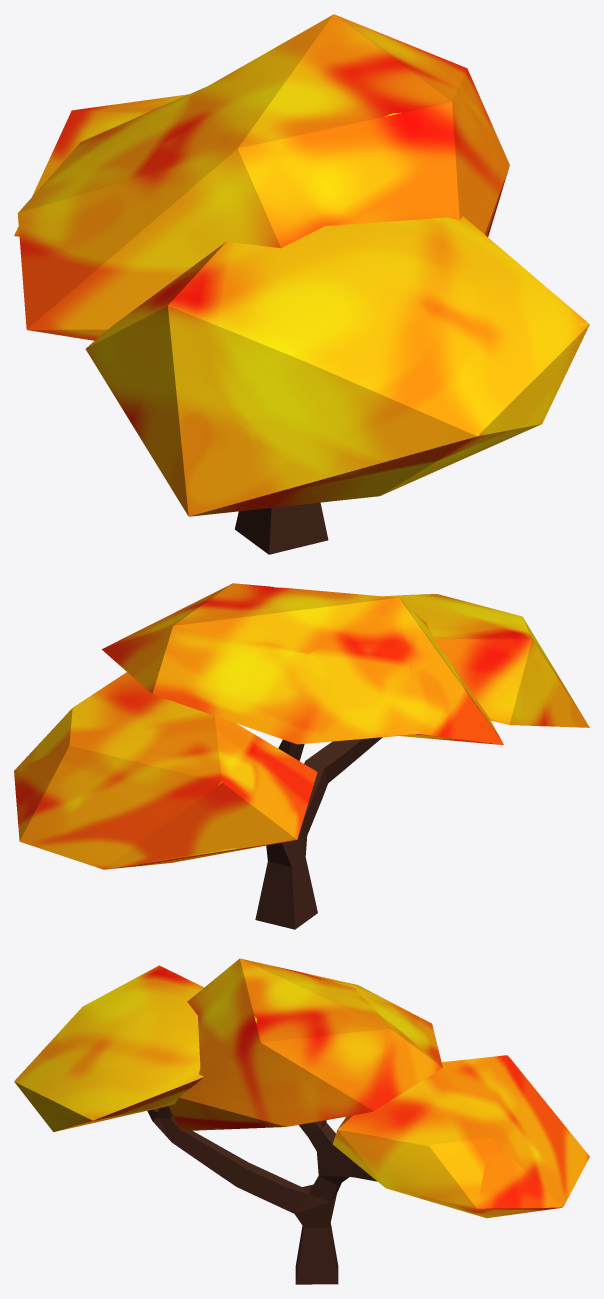
Rendered from Tree2.fbx.
The picture shows the model from 3 angles, top to bottom: view 1: azimuth 30°, elevation 25°; view 2: azimuth 150°, elevation 25°; view 3: azimuth 270°, elevation 25°; orthographic projection. The views are drawn at different scales.
Parts seen in each view (by area): view 1: Icosphere, Cube; view 2: Icosphere, Cube; view 3: Icosphere, Cube.
Part boxes in pixels (x1,y1,x2,y2): Icosphere: (14, 14, 589, 516); Cube: (234, 502, 328, 554); Icosphere: (14, 583, 589, 869); Cube: (255, 737, 382, 929); Icosphere: (14, 958, 589, 1218); Cube: (147, 1106, 377, 1284).
Size of the model in its own units: 479 by 368 by 674.
